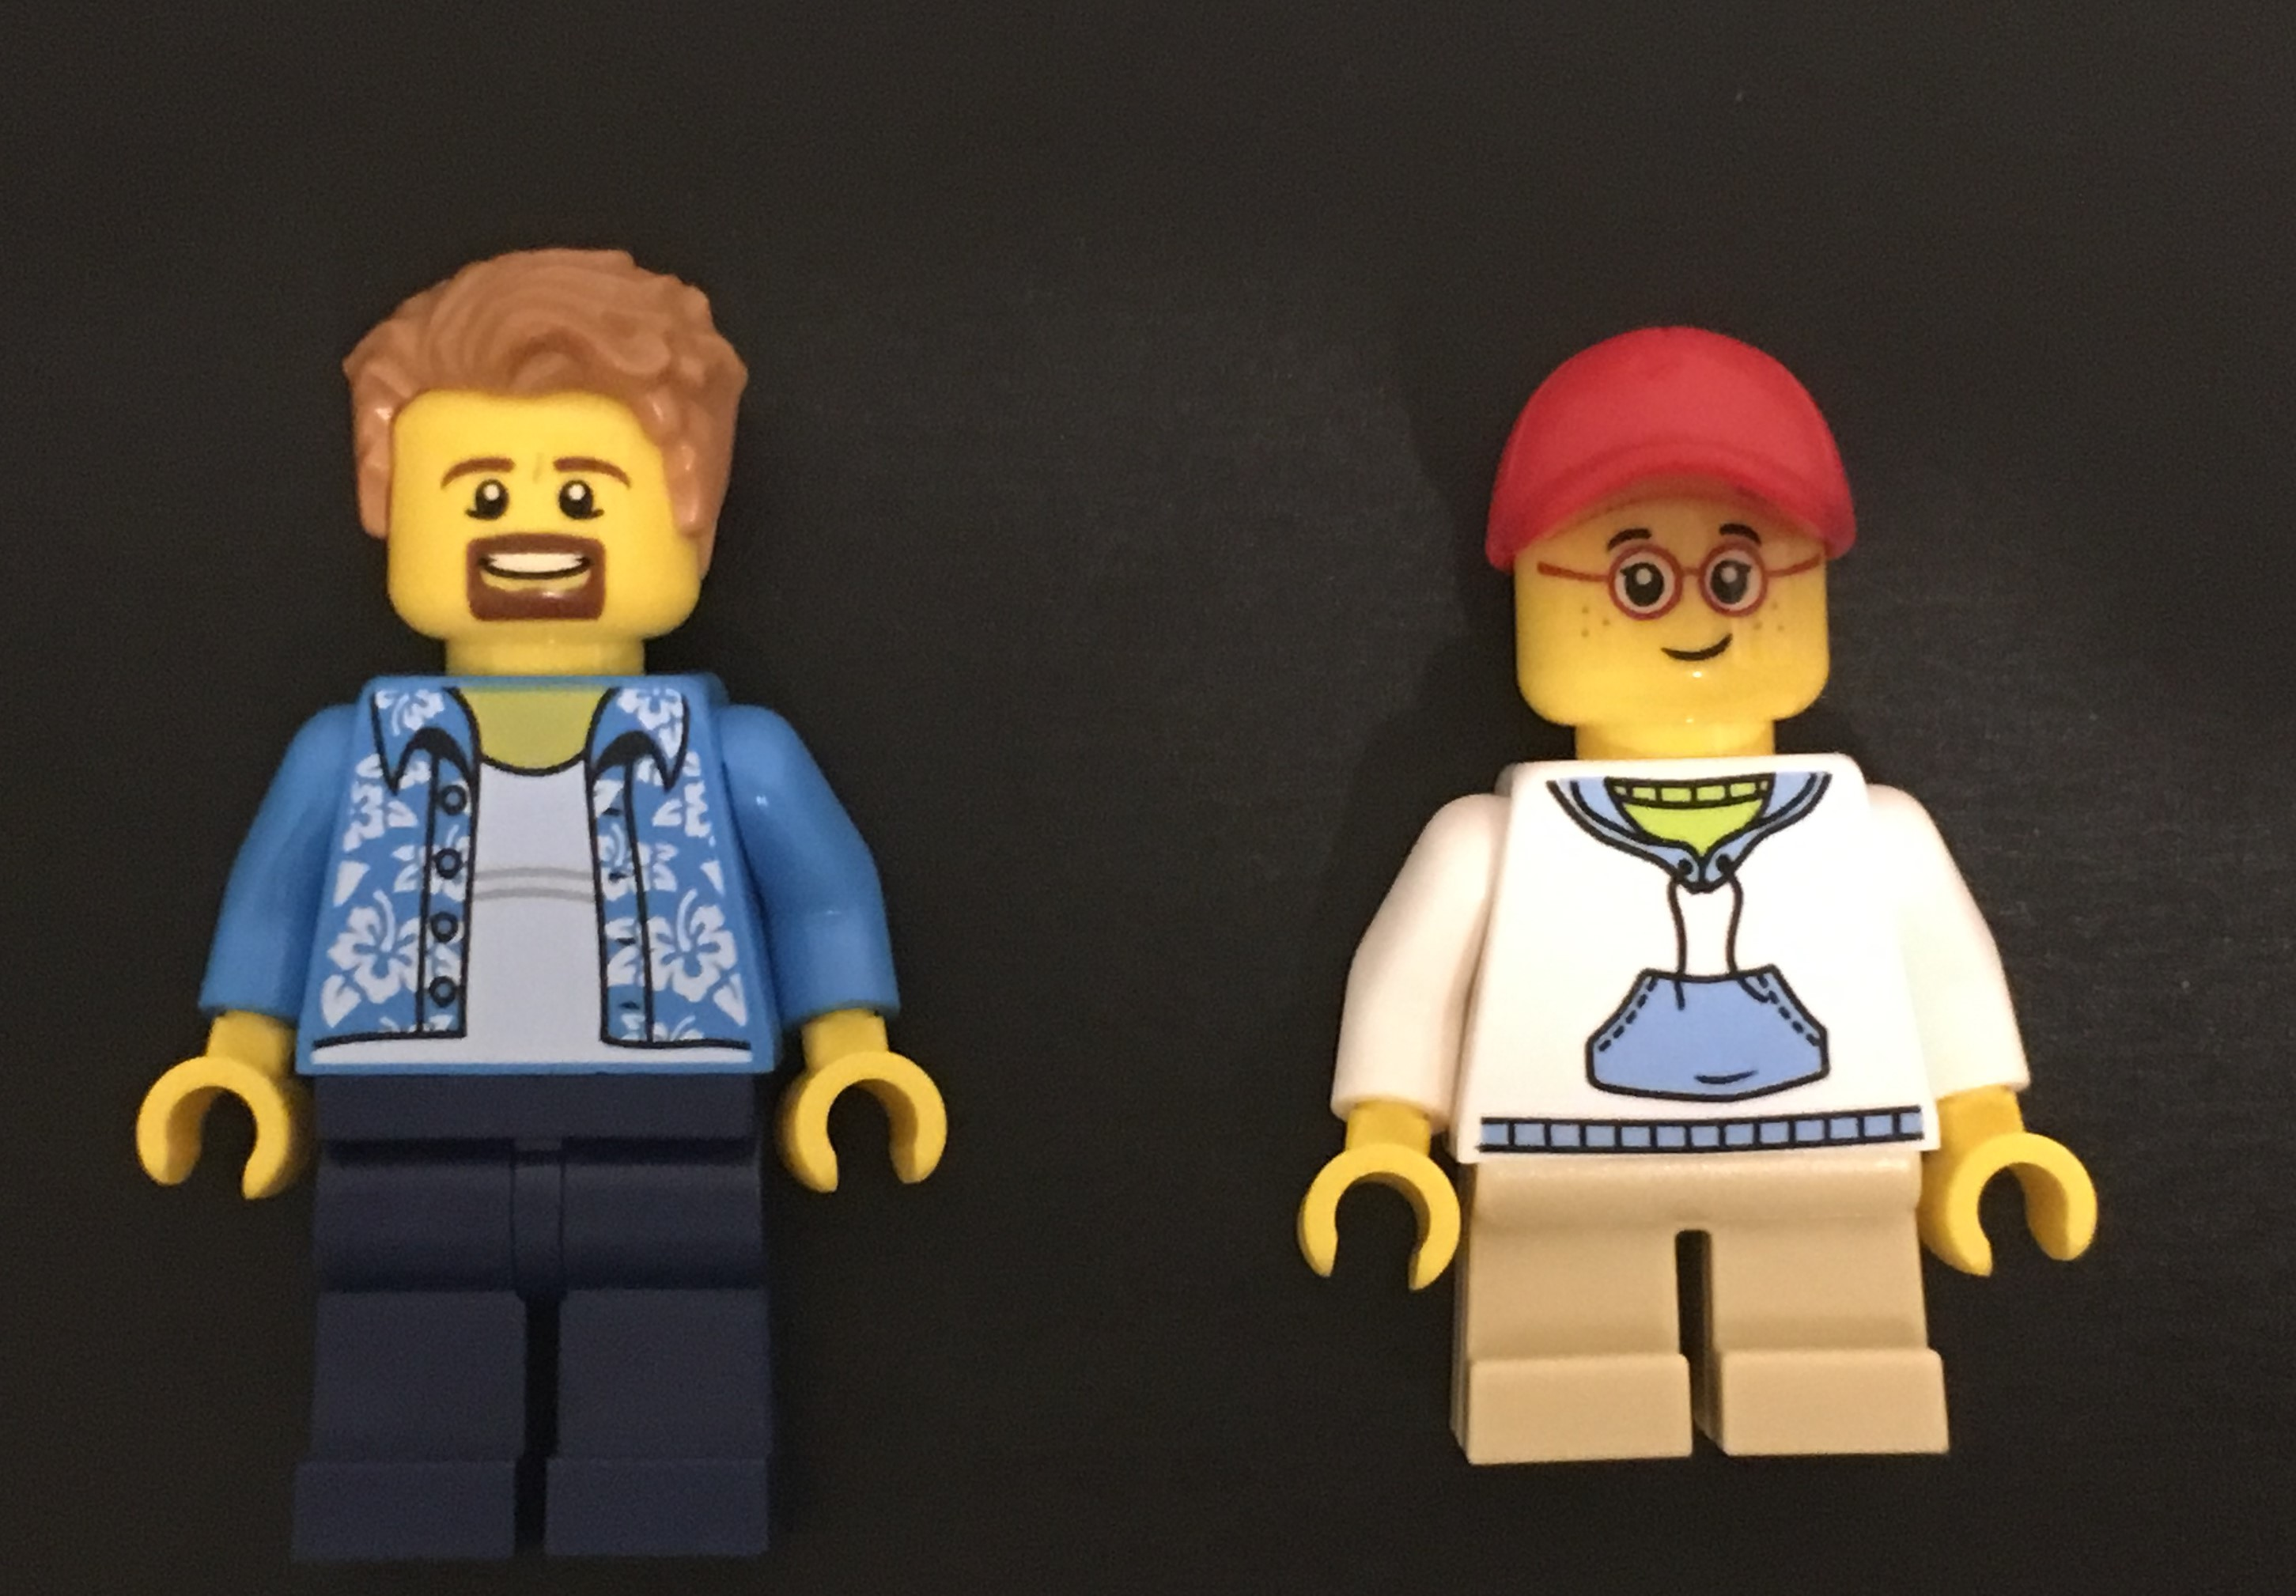lego: (61, 237, 981, 1572), (1242, 305, 2156, 1509)
